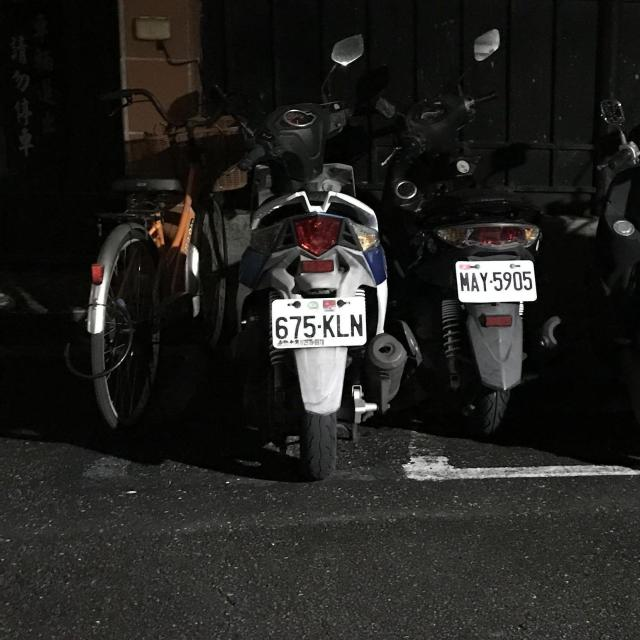W: (269, 292, 370, 350), (450, 255, 540, 305)
